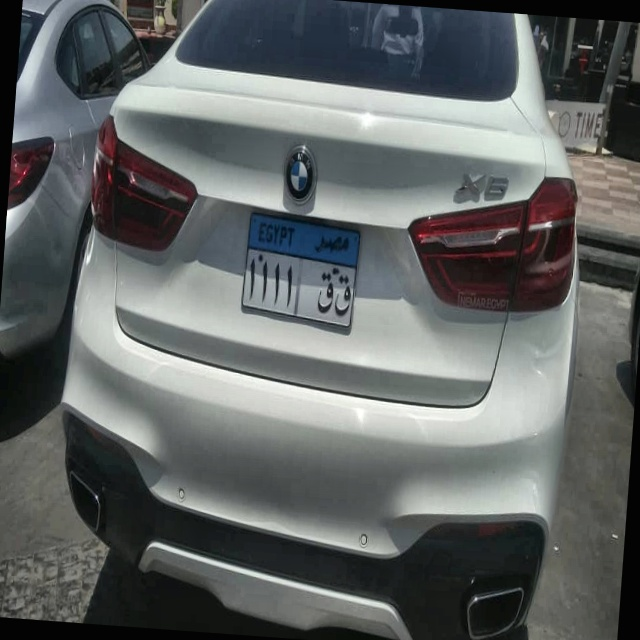License Plate: (239, 210, 364, 336)
